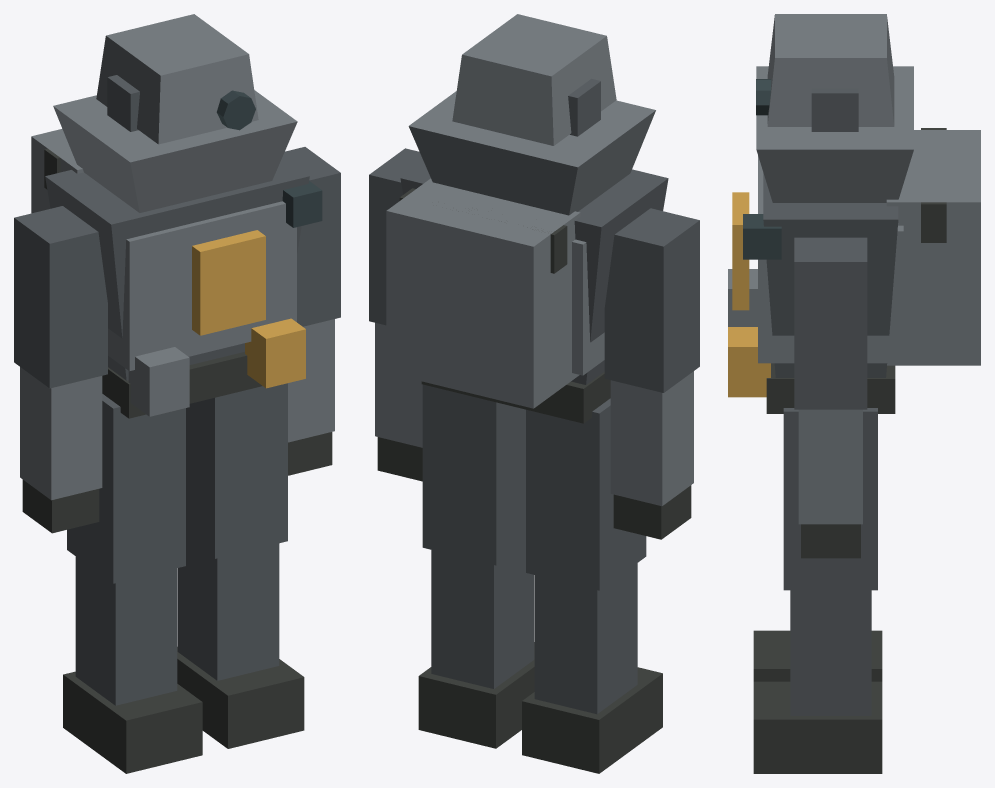
File: soldier_littoral.glb
3 views of the same model, side by side, from view 1: azimuth 30°, elevation 25°; view 2: azimuth 150°, elevation 25°; view 3: azimuth 270°, elevation 25° (orthographic). The views are drawn at different scales.
Parts seen in each view (by area): view 1: thighL, collar, thighR, carrier, upperarmR, halfhelm, shinR, shinL, chest, forearmR, bootR, bootL (+12 smaller); view 2: pack, thighL, collar, thighR, upperarmR, halfhelm, shinR, shinL, forearmR, bootR, chest, bootL (+8 smaller); view 3: pack, upperarmL, collar, halfhelm, shinL, chest, bootL, thighL, forearmL, carrier, bootR, pouch_l (+8 smaller).
Boxes of the visible parts, x1=… form: thighL: x1=186, y1=383, x2=287, y2=558; collar: x1=53, y1=90, x2=297, y2=212; thighR: x1=67, y1=394, x2=185, y2=583; carrier: x1=108, y1=201, x2=296, y2=371; upperarmR: x1=14, y1=206, x2=107, y2=388; halfhelm: x1=96, y1=14, x2=258, y2=144; shinR: x1=75, y1=556, x2=177, y2=705; shinL: x1=177, y1=538, x2=279, y2=680; chest: x1=45, y1=156, x2=309, y2=380; forearmR: x1=20, y1=367, x2=102, y2=500; bootR: x1=63, y1=671, x2=202, y2=773; bootL: x1=177, y1=647, x2=304, y2=748; pack: x1=386, y1=178, x2=580, y2=408; thighL: x1=422, y1=384, x2=525, y2=565; collar: x1=408, y1=91, x2=655, y2=215; thighR: x1=526, y1=398, x2=646, y2=590; upperarmR: x1=604, y1=208, x2=699, y2=392; halfhelm: x1=452, y1=14, x2=616, y2=145; shinR: x1=534, y1=563, x2=637, y2=714; shinL: x1=431, y1=544, x2=534, y2=688; forearmR: x1=610, y1=371, x2=693, y2=506; bootR: x1=522, y1=667, x2=662, y2=773; chest: x1=400, y1=161, x2=668, y2=384; bootL: x1=418, y1=642, x2=534, y2=748; pack: x1=886, y1=130, x2=980, y2=365; upperarmL: x1=794, y1=237, x2=867, y2=409; collar: x1=756, y1=66, x2=913, y2=202; halfhelm: x1=767, y1=14, x2=894, y2=126; shinL: x1=790, y1=590, x2=871, y2=715; chest: x1=763, y1=173, x2=898, y2=377; bootL: x1=753, y1=681, x2=882, y2=773; thighL: x1=783, y1=408, x2=877, y2=590; forearmL: x1=798, y1=409, x2=862, y2=524; carrier: x1=758, y1=156, x2=903, y2=363; bootR: x1=753, y1=630, x2=882, y2=681; pouch_l: x1=728, y1=327, x2=770, y2=397.
Size of the model in its own units: 0.8 by 1.79 by 0.59.
